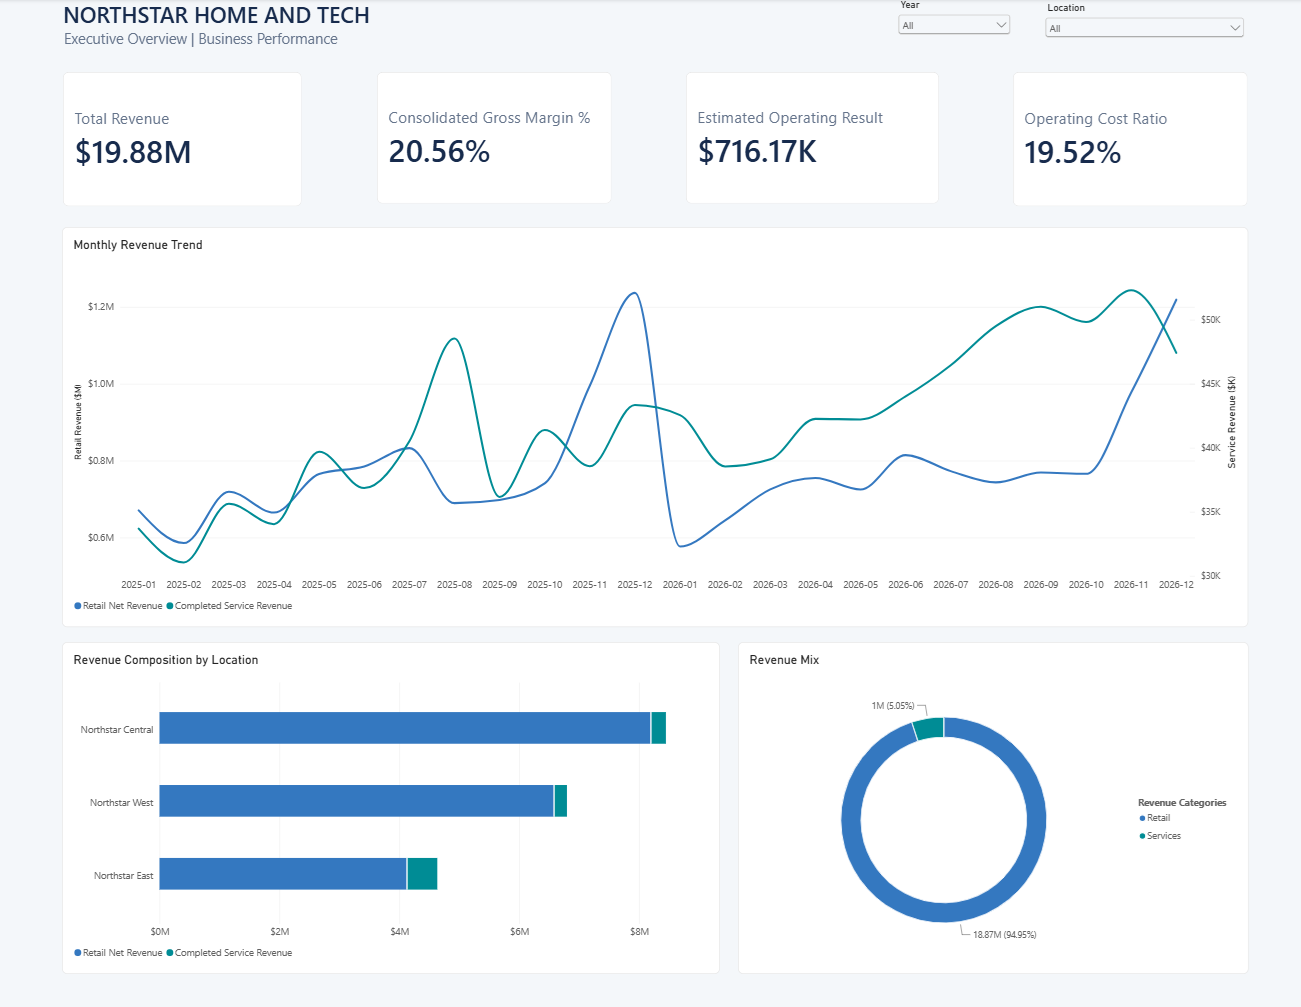

This screenshot's page, from the dashboard's own definition file:
{"tool":"powerbi","page":{"name":"Executive Overview","canvas":[1920,1480],"ordinal":1},"visuals":[{"type":"lineChart","title":"Monthly Revenue Trend","fields":{"Category":["DimDate.YearMonth"],"Y":["FactSales.Retail Net Revenue"],"Y2":["FactServiceJobs.Completed Service Revenue"]},"box":[92.9,333.9,1739.9,586.8],"z":0},{"type":"barChart","title":"Revenue Composition by Location","fields":{"Category":["DimLocation.LocationName"],"Y":["FactSales.Retail Net Revenue","FactServiceJobs.Completed Service Revenue"]},"box":[92.9,943.1,965.4,487],"z":1000},{"type":"donutChart","title":"Revenue Mix","fields":{"Category":["RevenueCategory.RevenueType"],"Y":["RevenueCategory.Revenue by Category"]},"box":[1084.2,943.1,748.6,487],"z":2000},{"type":"textbox","box":[94,0,489.2,43.6],"z":3000},{"type":"textbox","box":[94.7,43,426.8,36.1],"z":4000},{"type":"cardVisual","fields":{"Data":["FactSales.Total Revenue"]},"box":[93.6,107,351,197.2],"z":5000},{"type":"cardVisual","fields":{"Data":["FactSales.Consolidated Gross Margin %"]},"box":[553.8,107,344.3,193.9],"z":6000},{"type":"cardVisual","fields":{"Data":["FactSales.Estimated Operating Result"]},"box":[1007.3,107,371,193.9],"z":7000},{"type":"cardVisual","fields":{"Data":["FactExpenses.Operating Cost Ratio"]},"box":[1487.5,107,344.3,197.2],"z":8000},{"type":"slicer","fields":{"Values":["DimDate.Year"]},"box":[1313.6,0,174,107],"z":9000},{"type":"slicer","fields":{"Values":["DimLocation.LocationName"]},"box":[1530.3,4.1,301.3,79.7],"z":10000}]}

Visuals, with their boxes in screenshot pixels (x1, y1, x2, y2), scaled from the page's 1920x1480 canvas onto the 1301x1007 screenshot:
"Monthly Revenue Trend" lineChart: 63 227 1242 626
"Revenue Composition by Location" barChart: 63 642 717 973
"Revenue Mix" donutChart: 735 642 1242 973
textbox: 64 0 395 30
textbox: 64 29 353 54
cardVisual - FactSales.Total Revenue: 63 73 301 207
cardVisual - FactSales.Consolidated Gross Margin %: 375 73 609 205
cardVisual - FactSales.Estimated Operating Result: 683 73 934 205
cardVisual - FactExpenses.Operating Cost Ratio: 1008 73 1241 207
slicer - DimDate.Year: 890 0 1008 73
slicer - DimLocation.LocationName: 1037 3 1241 57
